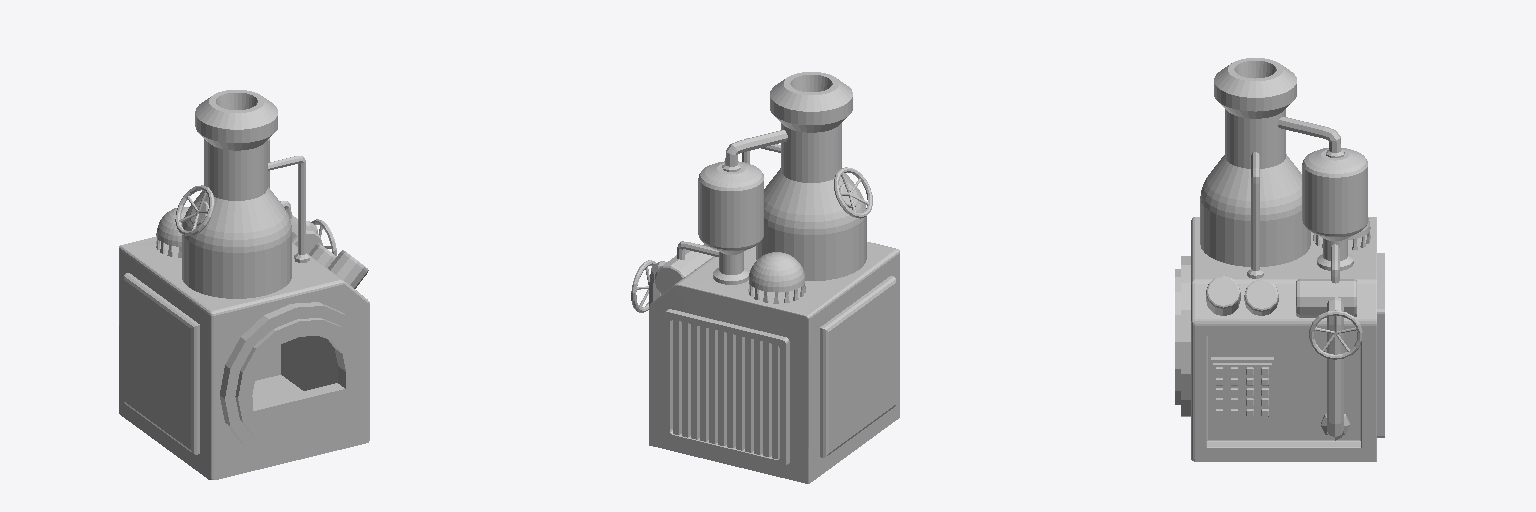
File: MetalRecycler.obj
3 views of the same model, side by side, from view 1: azimuth 30°, elevation 25°; view 2: azimuth 150°, elevation 25°; view 3: azimuth 270°, elevation 25° (orthographic).
Visible parts, largest first — view 1: Cube, Cylinder, Cylinder.010, Cylinder.009, Cylinder.006, Sphere; view 2: Cube, Cylinder, Cube.003, Cylinder.001, Plane, Sphere, Cylinder.002, Cylinder.004, Cylinder.006; view 3: Cube, Cylinder, Cylinder.001, Cube.001, Cylinder.007, Cylinder.010, Cylinder.002, Plane, Cube.002, Cylinder.009, Cylinder.005, Cylinder.004.
Boxes of the visible parts, x1=… form: Cube: x1=119, y1=236, x2=369, y2=479; Cylinder: x1=182, y1=90, x2=291, y2=298; Cylinder.010: x1=309, y1=243, x2=368, y2=288; Cylinder.009: x1=268, y1=156, x2=309, y2=262; Cylinder.006: x1=175, y1=185, x2=214, y2=235; Sphere: x1=156, y1=207, x2=188, y2=246; Cube: x1=649, y1=242, x2=899, y2=483; Cylinder: x1=756, y1=72, x2=866, y2=280; Cube.003: x1=673, y1=320, x2=779, y2=458; Cylinder.001: x1=698, y1=161, x2=763, y2=284; Plane: x1=664, y1=309, x2=789, y2=467; Sphere: x1=749, y1=252, x2=805, y2=292; Cylinder.002: x1=654, y1=244, x2=712, y2=294; Cylinder.004: x1=722, y1=130, x2=787, y2=171; Cylinder.006: x1=834, y1=167, x2=872, y2=218; Cube: x1=1175, y1=217, x2=1376, y2=461; Cylinder: x1=1200, y1=58, x2=1310, y2=266; Cylinder.001: x1=1302, y1=148, x2=1367, y2=270; Cube.001: x1=1211, y1=357, x2=1273, y2=417; Cylinder.007: x1=1321, y1=296, x2=1349, y2=440; Cylinder.010: x1=1206, y1=276, x2=1278, y2=315; Cylinder.002: x1=1296, y1=279, x2=1356, y2=317; Plane: x1=1377, y1=253, x2=1384, y2=437; Cube.002: x1=1216, y1=367, x2=1268, y2=416; Cylinder.009: x1=1247, y1=152, x2=1263, y2=278; Cylinder.005: x1=1309, y1=310, x2=1362, y2=359; Cylinder.004: x1=1278, y1=117, x2=1344, y2=157.
Bounding box in the file's own units: 7.2 × 12.22 × 6.76.